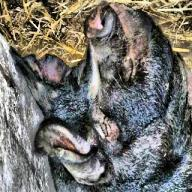boar: (9, 2, 191, 192)
